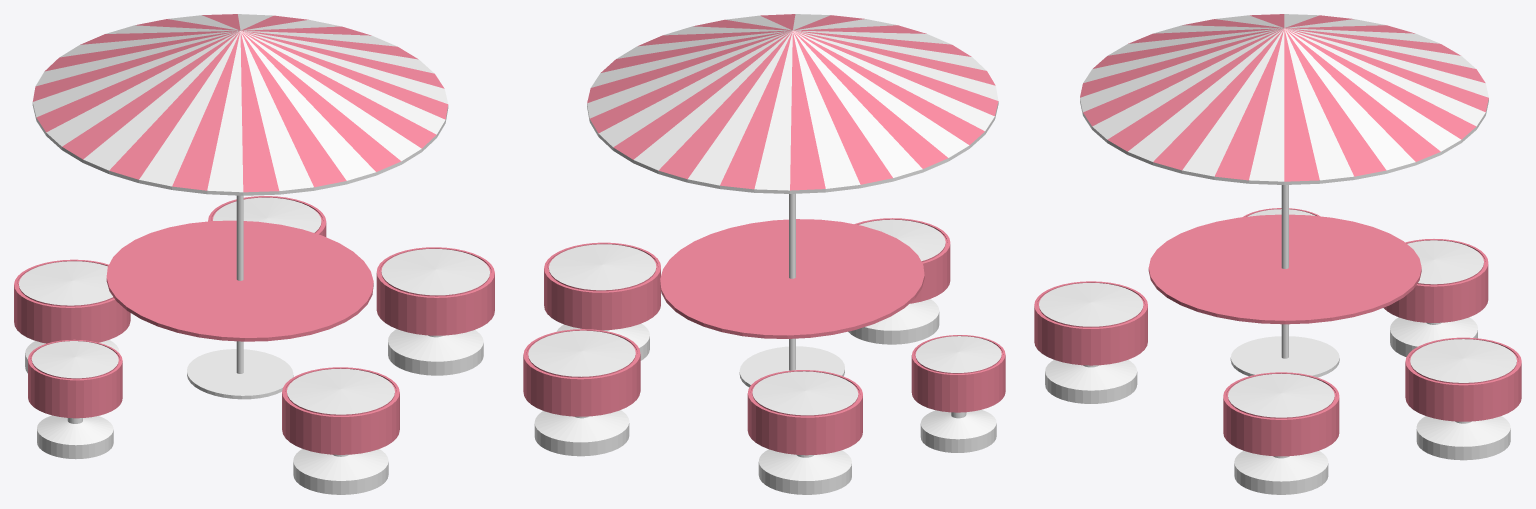
The model's file is cafechair.glb.
3 views of the same model, side by side, from view 1: azimuth 30°, elevation 25°; view 2: azimuth 150°, elevation 25°; view 3: azimuth 270°, elevation 25° (orthographic). The views are drawn at different scales.
Visible parts, largest first — view 1: Chair_44; view 2: Chair_44; view 3: Chair_44.
Boxes of the visible parts, box(x1,y1,x2,y2) form: Chair_44: box(14, 14, 494, 494); Chair_44: box(523, 14, 1005, 494); Chair_44: box(1034, 14, 1521, 494).
Bounding box in the file's own units: 0.9471 × 0.7425 × 0.9202.
